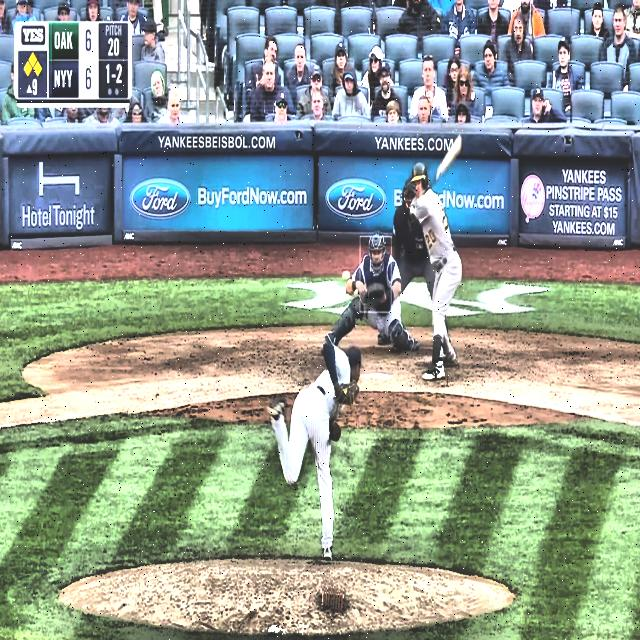baseball: (342, 270, 351, 281)
